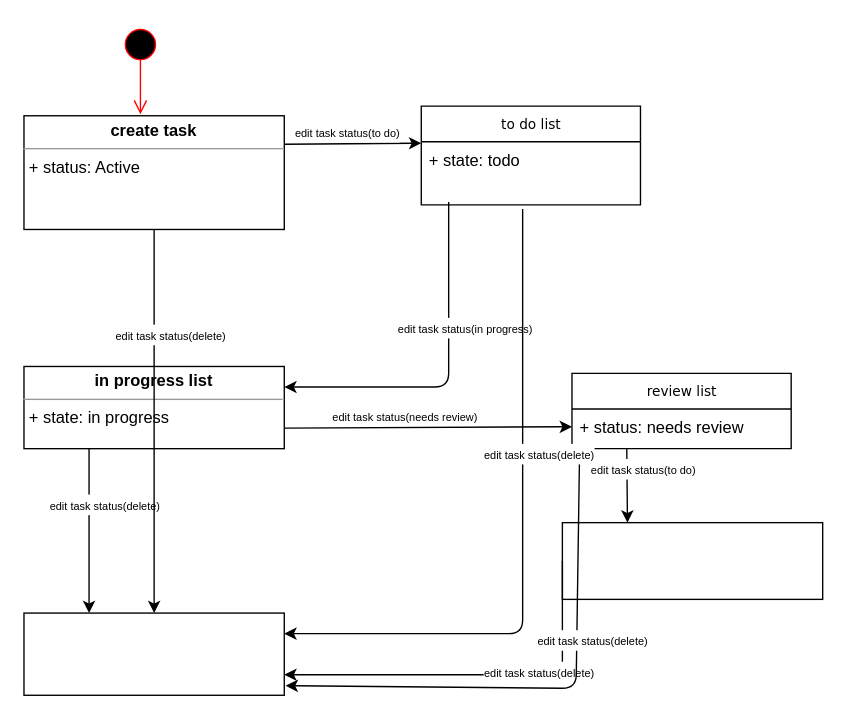
The diagram is 847 pixels wide and 723 high, and some of its shapes have lost their labels. Here are the shapes that lost their labels. From the top down, the centre of each, then its label:
the point at 692,560: done list + status: done
the point at 153,653: deactivated list + status: deactivate
